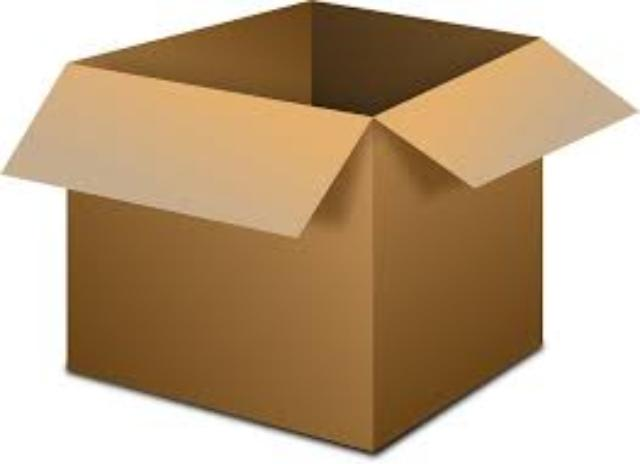cardboard paper: (1, 0, 638, 456)
